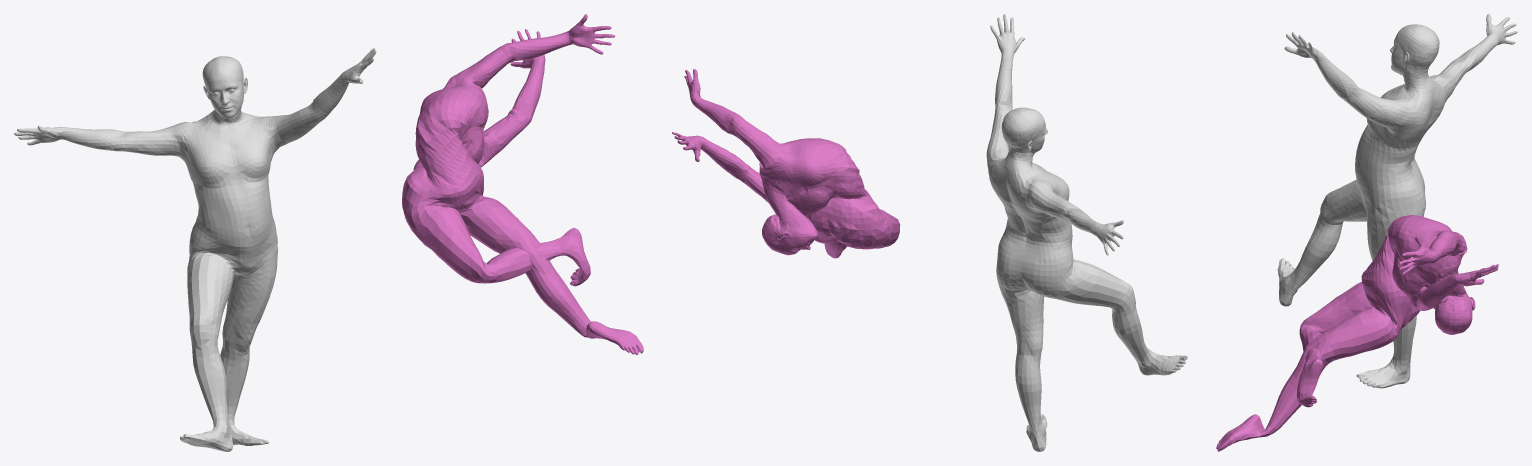
The picture shows the model from 3 angles, left to right: view 1: azimuth 30°, elevation 25°; view 2: azimuth 150°, elevation 25°; view 3: azimuth 270°, elevation 25°; orthographic projection. The views are drawn at different scales.
Visible parts, largest first — view 1: world; view 2: world; view 3: world.
Part boxes in pixels (x1,y1,x2,y2): world: (14,14,643,451); world: (672,14,1187,451); world: (1216,14,1517,451).
Size of the model in its own units: 2.53 by 1.85 by 1.28.
